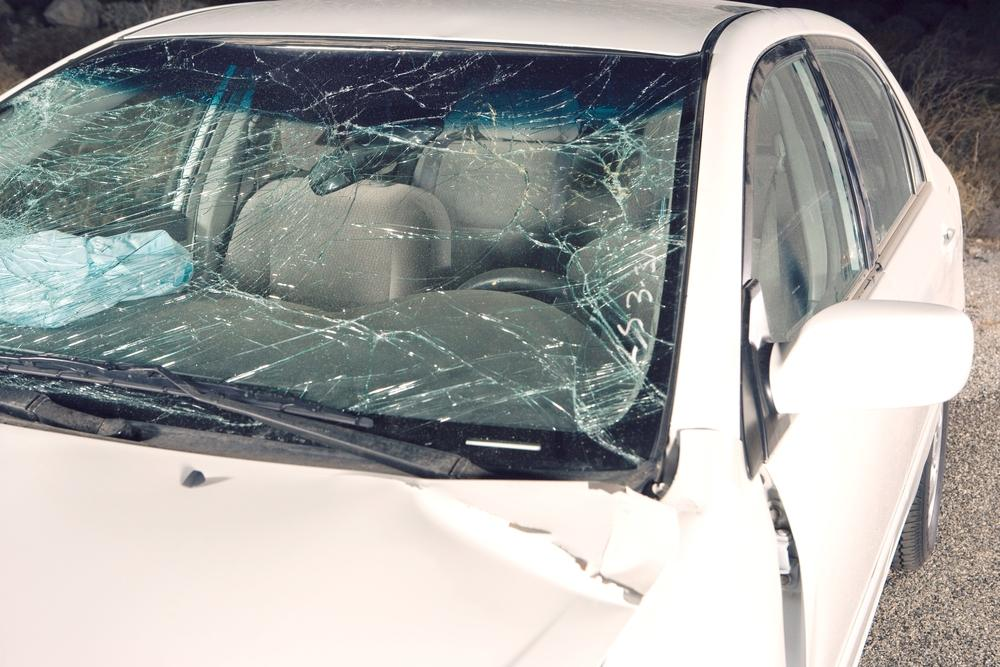dent: (412, 481, 676, 609)
